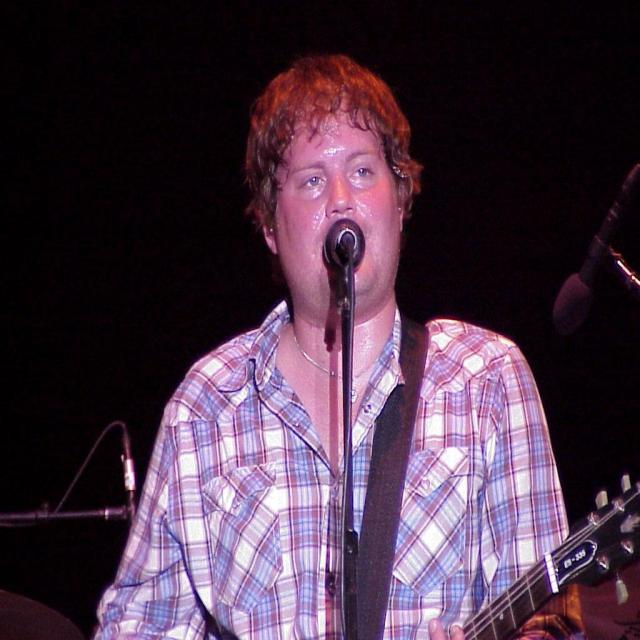Face: (267, 110, 415, 326)
